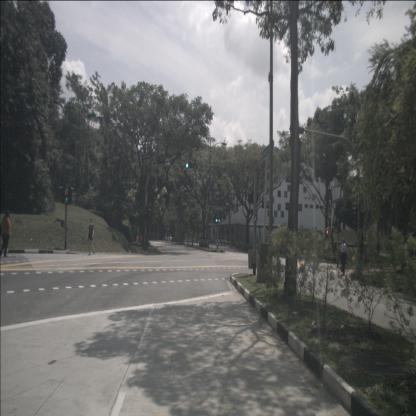human-pedestrian-adult: (0, 209, 12, 258), (87, 217, 95, 256), (340, 238, 346, 276)
movable_object-barrier: (136, 235, 142, 243)
